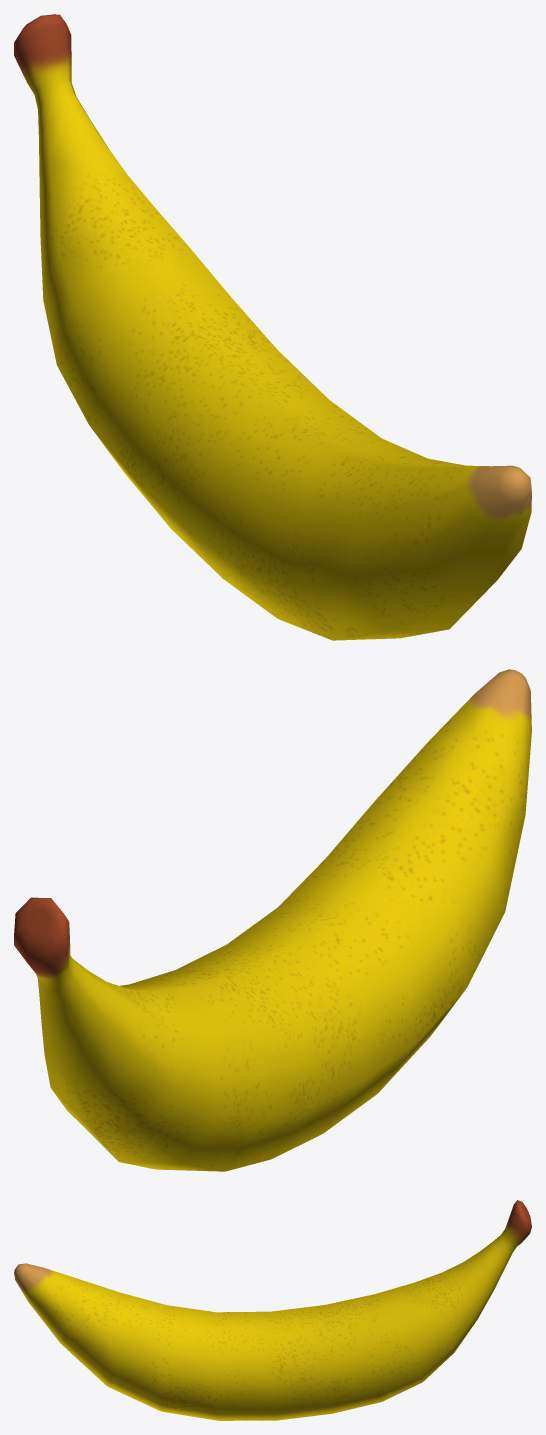
The model's file is banana.fbx.
The picture shows the model from 3 angles, top to bottom: view 1: azimuth 30°, elevation 25°; view 2: azimuth 150°, elevation 25°; view 3: azimuth 270°, elevation 25°; orthographic projection. The views are drawn at different scales.
Visible parts, largest first — view 1: Cylinder; view 2: Cylinder; view 3: Cylinder.
Boxes of the visible parts, left/top/right/bottom form: Cylinder: left=14, top=14, right=531, bottom=640; Cylinder: left=14, top=669, right=531, bottom=1171; Cylinder: left=14, top=1200, right=531, bottom=1420.
Bounding box in the file's own units: 0.215 × 0.459 × 1.
